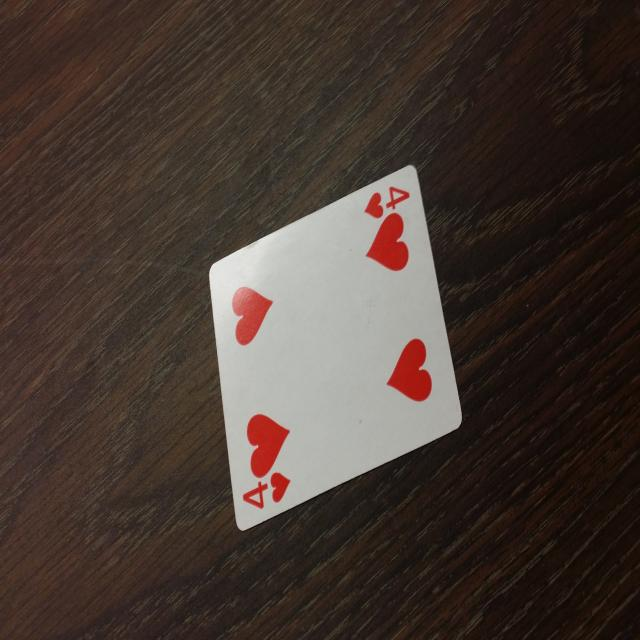4h: (231, 462, 298, 526), (356, 175, 415, 222)
